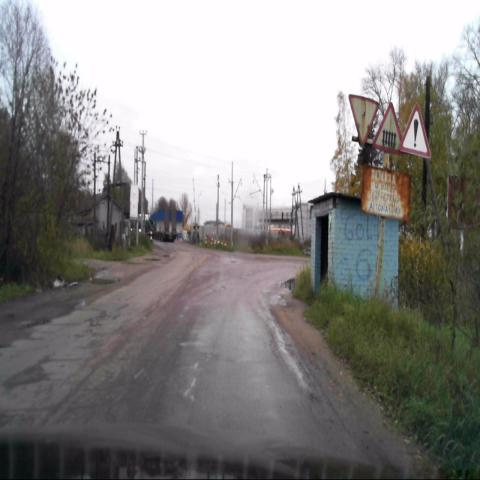1_1: (373, 102, 402, 152)
1_33: (399, 102, 431, 157)
